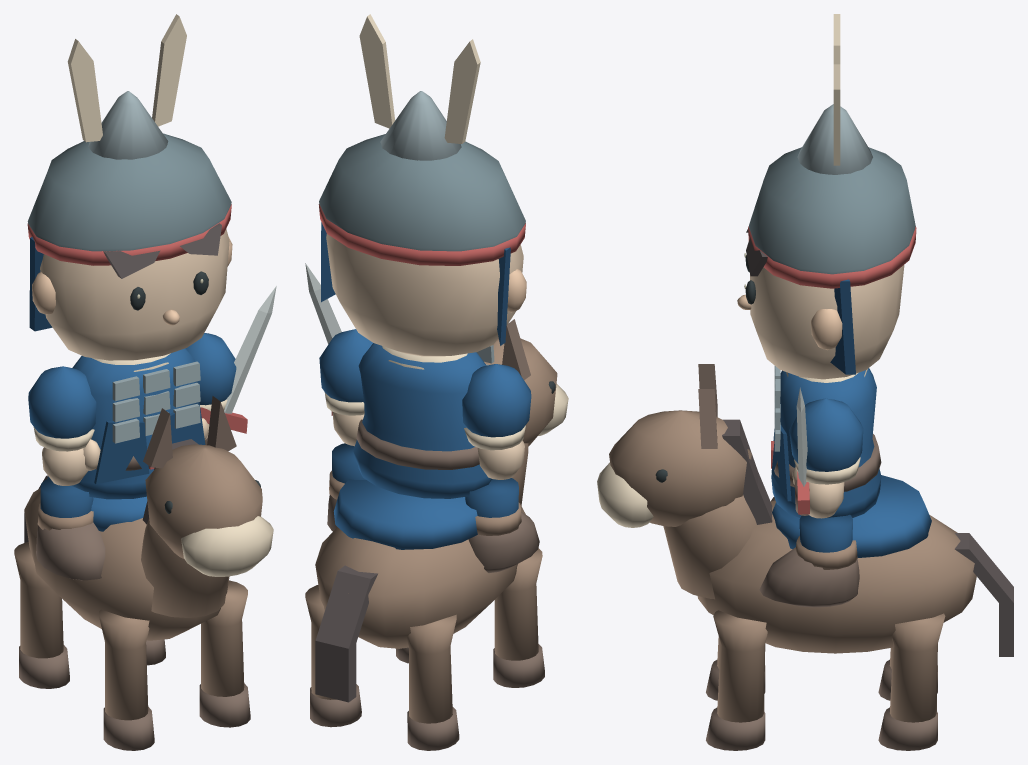
The model's file is rider.glb.
3 renders of one model, left to right at view 1: azimuth 30°, elevation 25°; view 2: azimuth 150°, elevation 25°; view 3: azimuth 270°, elevation 25°, orthographic. The views are drawn at different scales.
Parts seen in each view (by area): view 1: Regional helmet, Soft cheek head, Pony head, Plump pony body, Short folded tunic, Pony neck, Pony stubby leg, Pony stubby leg.001, Puff sleeve, Pony muzzle, Pony stubby leg.002, Goguryeo pointed crown (+32 smaller); view 2: Regional helmet, Soft cheek head, Short folded tunic, Plump pony body, Saddle blanket, Pony tail, Pony stubby leg.002, Puff sleeve, Pony stubby leg, Goguryeo pointed crown, Helmet brow band, Puff sleeve.001 (+23 smaller); view 3: Plump pony body, Regional helmet, Pony head, Soft cheek head, Short folded tunic, Pony neck, Saddle blanket, Pony stubby leg.001, Pony stubby leg.003, Round leather boot.001, Puff sleeve.001, Goguryeo pointed crown (+17 smaller).
Part boxes in pixels (x1,y1,x2,y2): Regional helmet: [27, 133, 231, 251]; Soft cheek head: [40, 229, 229, 360]; Pony head: [145, 444, 262, 559]; Plump pony body: [24, 488, 229, 640]; Short folded tunic: [71, 348, 195, 499]; Pony neck: [141, 518, 228, 617]; Pony stubby leg: [99, 609, 149, 720]; Pony stubby leg.001: [201, 580, 247, 696]; Puff sleeve: [28, 366, 96, 438]; Pony muzzle: [181, 516, 273, 576]; Pony stubby leg.002: [14, 542, 63, 658]; Goguryeo pointed crown: [88, 91, 168, 159]; Regional helmet: [319, 134, 525, 251]; Soft cheek head: [326, 234, 523, 356]; Short folded tunic: [353, 343, 491, 498]; Plump pony body: [315, 504, 525, 648]; Saddle blanket: [333, 479, 477, 549]; Pony tail: [315, 565, 377, 702]; Pony stubby leg.002: [407, 614, 456, 723]; Puff sleeve: [462, 364, 531, 437]; Pony stubby leg: [494, 548, 542, 660]; Goguryeo pointed crown: [380, 91, 461, 160]; Helmet brow band: [318, 204, 525, 265]; Puff sleeve.001: [319, 329, 372, 402]; Plump pony body: [697, 500, 976, 653]; Regional helmet: [749, 147, 915, 274]; Pony head: [609, 410, 751, 526]; Soft cheek head: [750, 265, 904, 379]; Short folded tunic: [771, 368, 881, 517]; Pony neck: [663, 495, 756, 599]; Saddle blanket: [772, 475, 931, 557]; Pony stubby leg.001: [713, 610, 767, 722]; Pony stubby leg.003: [890, 613, 945, 722]; Round leather boot.001: [759, 547, 859, 607]; Puff sleeve.001: [789, 398, 863, 471]; Goguryeo pointed crown: [797, 104, 872, 174].
Size of the model in its own units: 0.9142 by 2.51 by 1.4.
